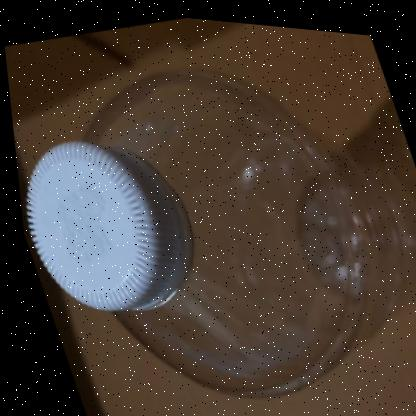bottle cap: (1, 10, 398, 416)
